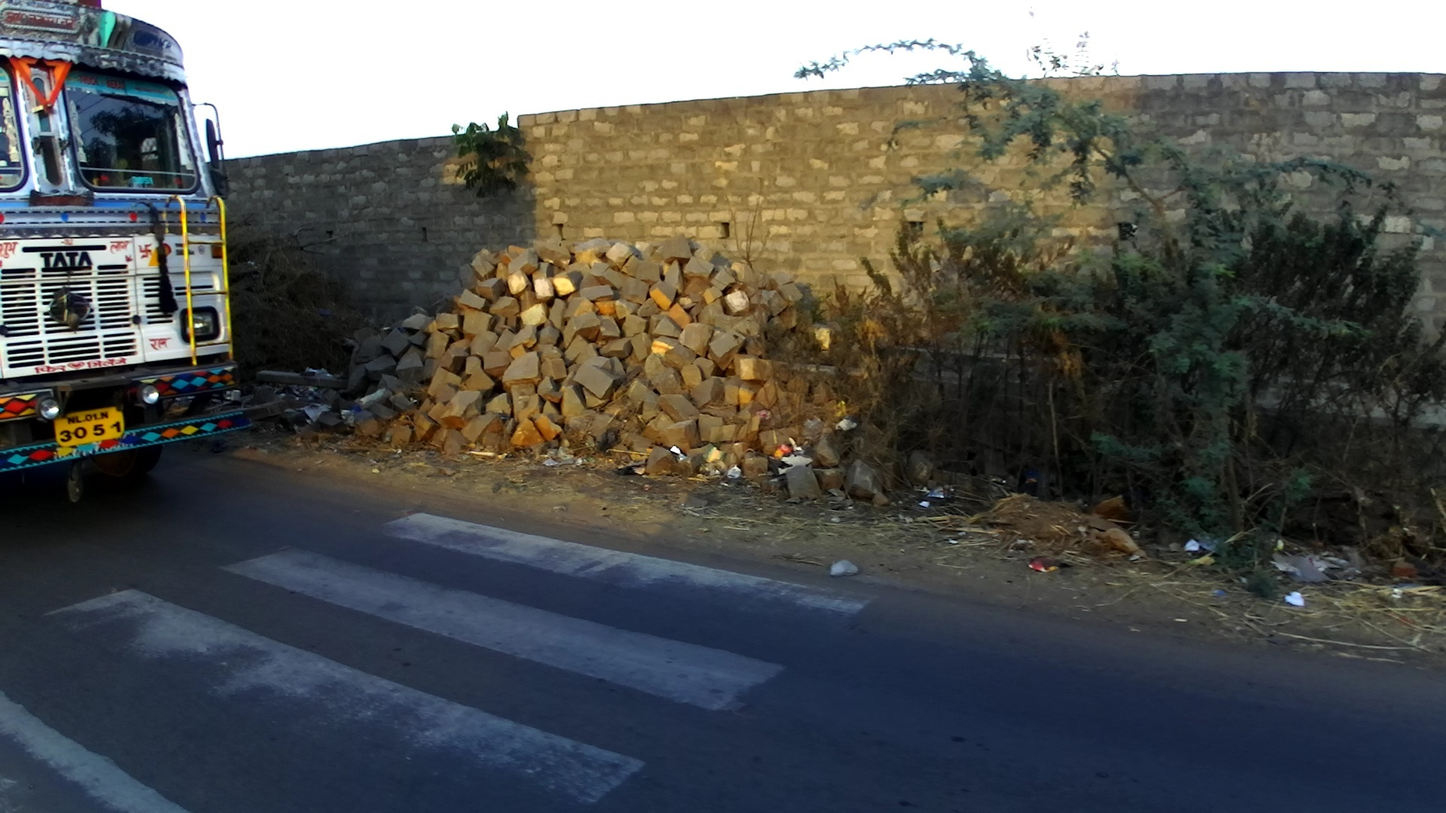truck: (1, 1, 249, 511)
